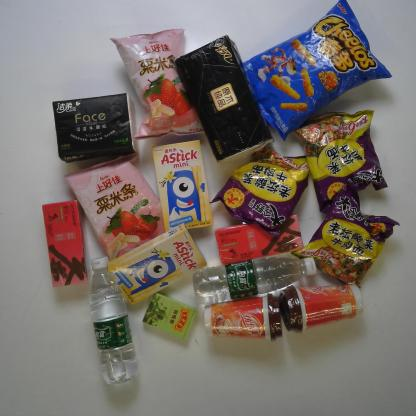Candy: (141, 291, 198, 341)
Dessert: (107, 222, 208, 307), (151, 139, 214, 232)
Drink: (191, 252, 317, 306), (88, 256, 138, 385)
Instant Drink: (214, 214, 304, 267), (279, 283, 366, 334), (41, 198, 90, 288), (204, 292, 284, 343)
Instant Noodles: (290, 180, 401, 289), (294, 108, 390, 215), (209, 145, 312, 238)
Puffed Food: (242, 0, 392, 144), (62, 152, 165, 262), (108, 26, 204, 144)
Tissue: (175, 34, 273, 164), (52, 92, 140, 165)
